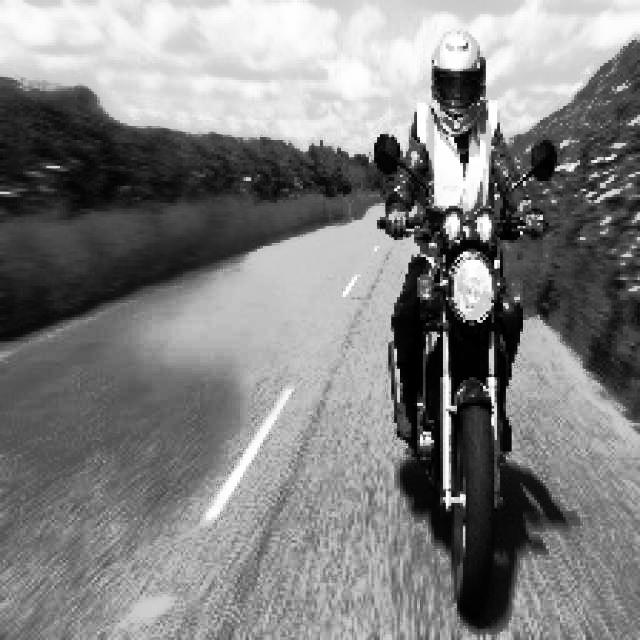Bike: (396, 180, 546, 634)
